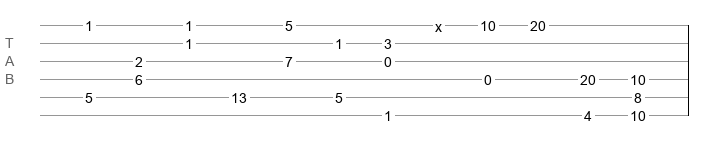0: (384, 54, 392, 64), (484, 72, 492, 82)
1: (85, 18, 93, 28), (185, 36, 193, 46), (185, 18, 193, 28), (335, 36, 343, 46), (384, 108, 392, 118)
10: (480, 18, 496, 28), (630, 72, 646, 82), (630, 108, 646, 118)
13: (231, 90, 247, 100)
2: (135, 54, 143, 64)
20: (530, 18, 546, 28), (580, 72, 596, 82)
3: (384, 36, 392, 46)
4: (584, 108, 592, 118)
5: (85, 90, 93, 100), (285, 18, 293, 28), (335, 90, 343, 100)
6: (135, 72, 143, 82)
7: (285, 54, 293, 64)
8: (634, 90, 642, 100)
x: (435, 19, 442, 27)
